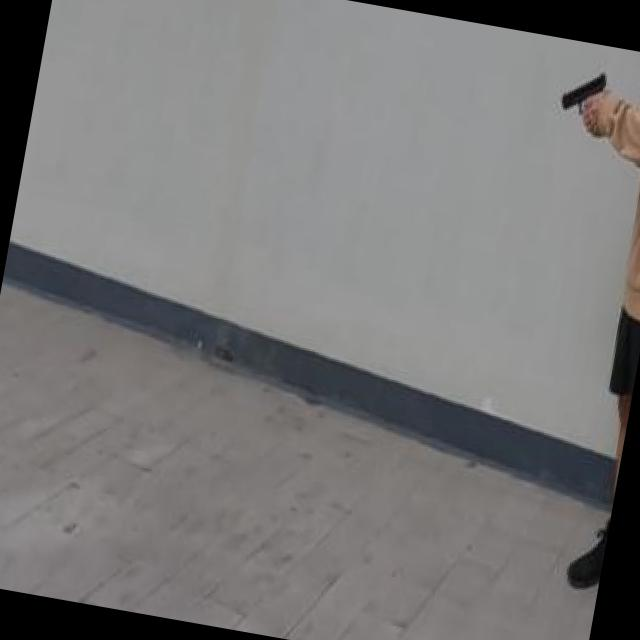Guns: (548, 57, 616, 138)
